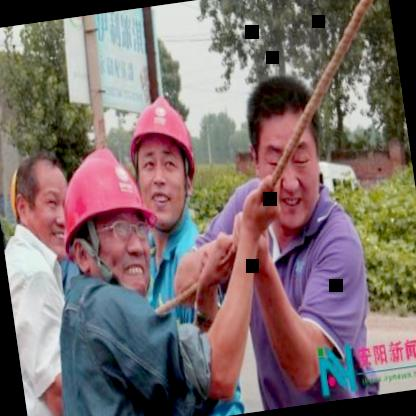head: (236, 72, 338, 238), (5, 147, 75, 262)
helmet: (50, 138, 166, 307), (117, 82, 215, 235)
